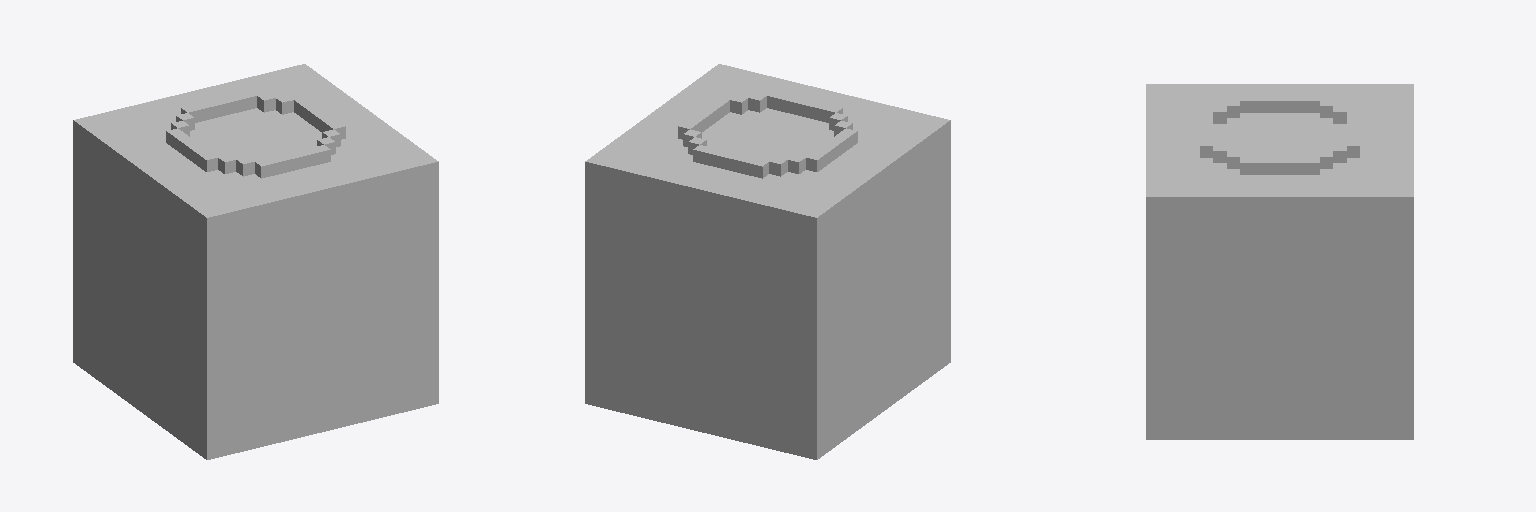
The model's file is buttonplace.obj.
3 renders of one model, left to right at view 1: azimuth 30°, elevation 25°; view 2: azimuth 150°, elevation 25°; view 3: azimuth 270°, elevation 25°, orthographic.
Visible parts, largest first — view 1: object 1; view 2: object 1; view 3: object 1.
Part boxes in pixels (x1,y1,x2,y2): object 1: (73,64,438,459); object 1: (585,64,950,459); object 1: (1146,84,1413,439).
Size of the model in its own units: 2 by 2.1 by 2.